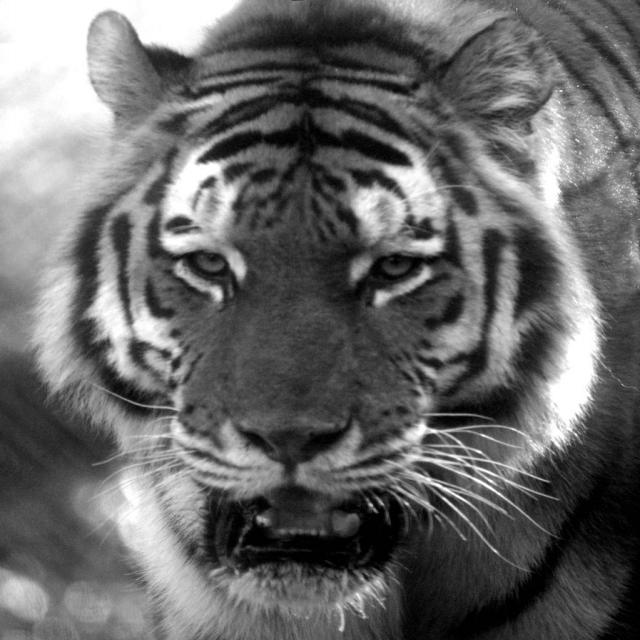Tiger: (26, 0, 640, 640)
